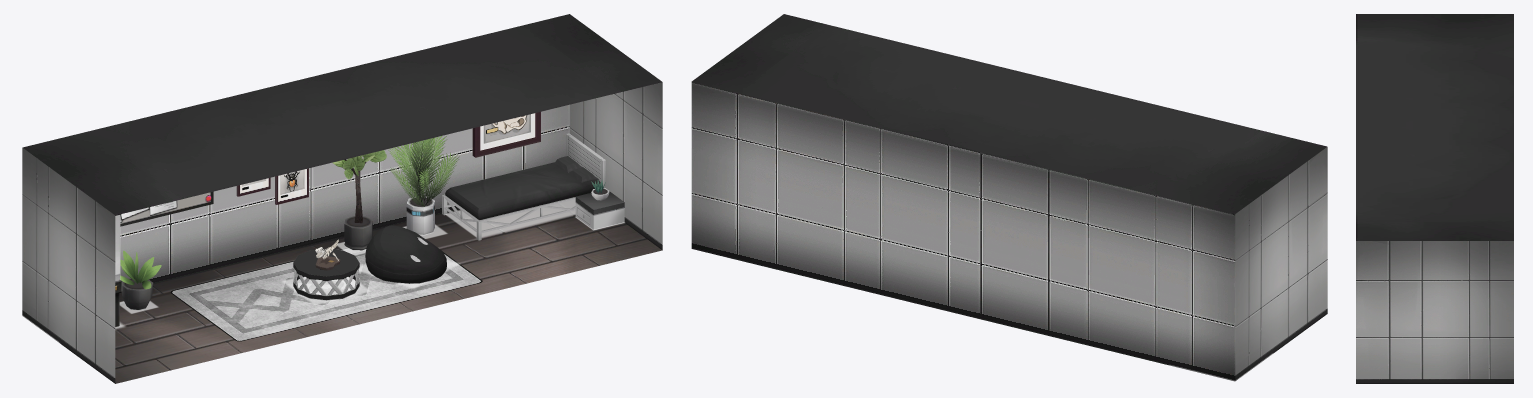
The model's file is specimen.glb.
3 renders of one model, left to right at view 1: azimuth 30°, elevation 25°; view 2: azimuth 150°, elevation 25°; view 3: azimuth 270°, elevation 25°, orthographic. The views are drawn at different scales.
Visible parts, largest first — view 1: ROOM_room, ROOM_floor, furni_specimen_carpet_01, furni_specimen_bed_01, furni_specimen_pottedplant_02, furni_specimen_lazysofa_R_01, furni_specimen_coffeetable_01, furni_specimen_specimenframed_01, furni_specimen_seedling_01, furni_specimen_nightstand_01, furni_specimen_pottedplant_01, ROOM_LDoor (+5 smaller); view 2: ROOM_room, ROOM_LDoor; view 3: ROOM_room, ROOM_RDoor.
Part boxes in pixels (bbox=[...]): ROOM_room: bbox=[22, 14, 662, 383]; ROOM_floor: bbox=[115, 200, 662, 383]; furni_specimen_carpet_01: bbox=[170, 235, 482, 341]; furni_specimen_bed_01: bbox=[442, 133, 605, 240]; furni_specimen_pottedplant_02: bbox=[388, 135, 459, 235]; furni_specimen_lazysofa_R_01: bbox=[365, 225, 446, 283]; furni_specimen_coffeetable_01: bbox=[293, 239, 359, 300]; furni_specimen_specimenframed_01: bbox=[472, 111, 540, 157]; furni_specimen_seedling_01: bbox=[332, 150, 386, 250]; furni_specimen_nightstand_01: bbox=[575, 179, 624, 229]; furni_specimen_pottedplant_01: bbox=[120, 250, 161, 310]; ROOM_LDoor: bbox=[82, 284, 101, 373]; ROOM_room: bbox=[691, 14, 1327, 381]; ROOM_LDoor: bbox=[1295, 248, 1313, 337]; ROOM_room: bbox=[1356, 14, 1513, 383]; ROOM_RDoor: bbox=[1379, 319, 1411, 383].
Bounding box in the file's own units: 7.57 × 2.2 × 2.27.
Materials: 6 (6 with a texture image).
